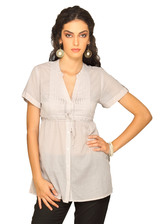clothoes: (16, 57, 129, 204)
